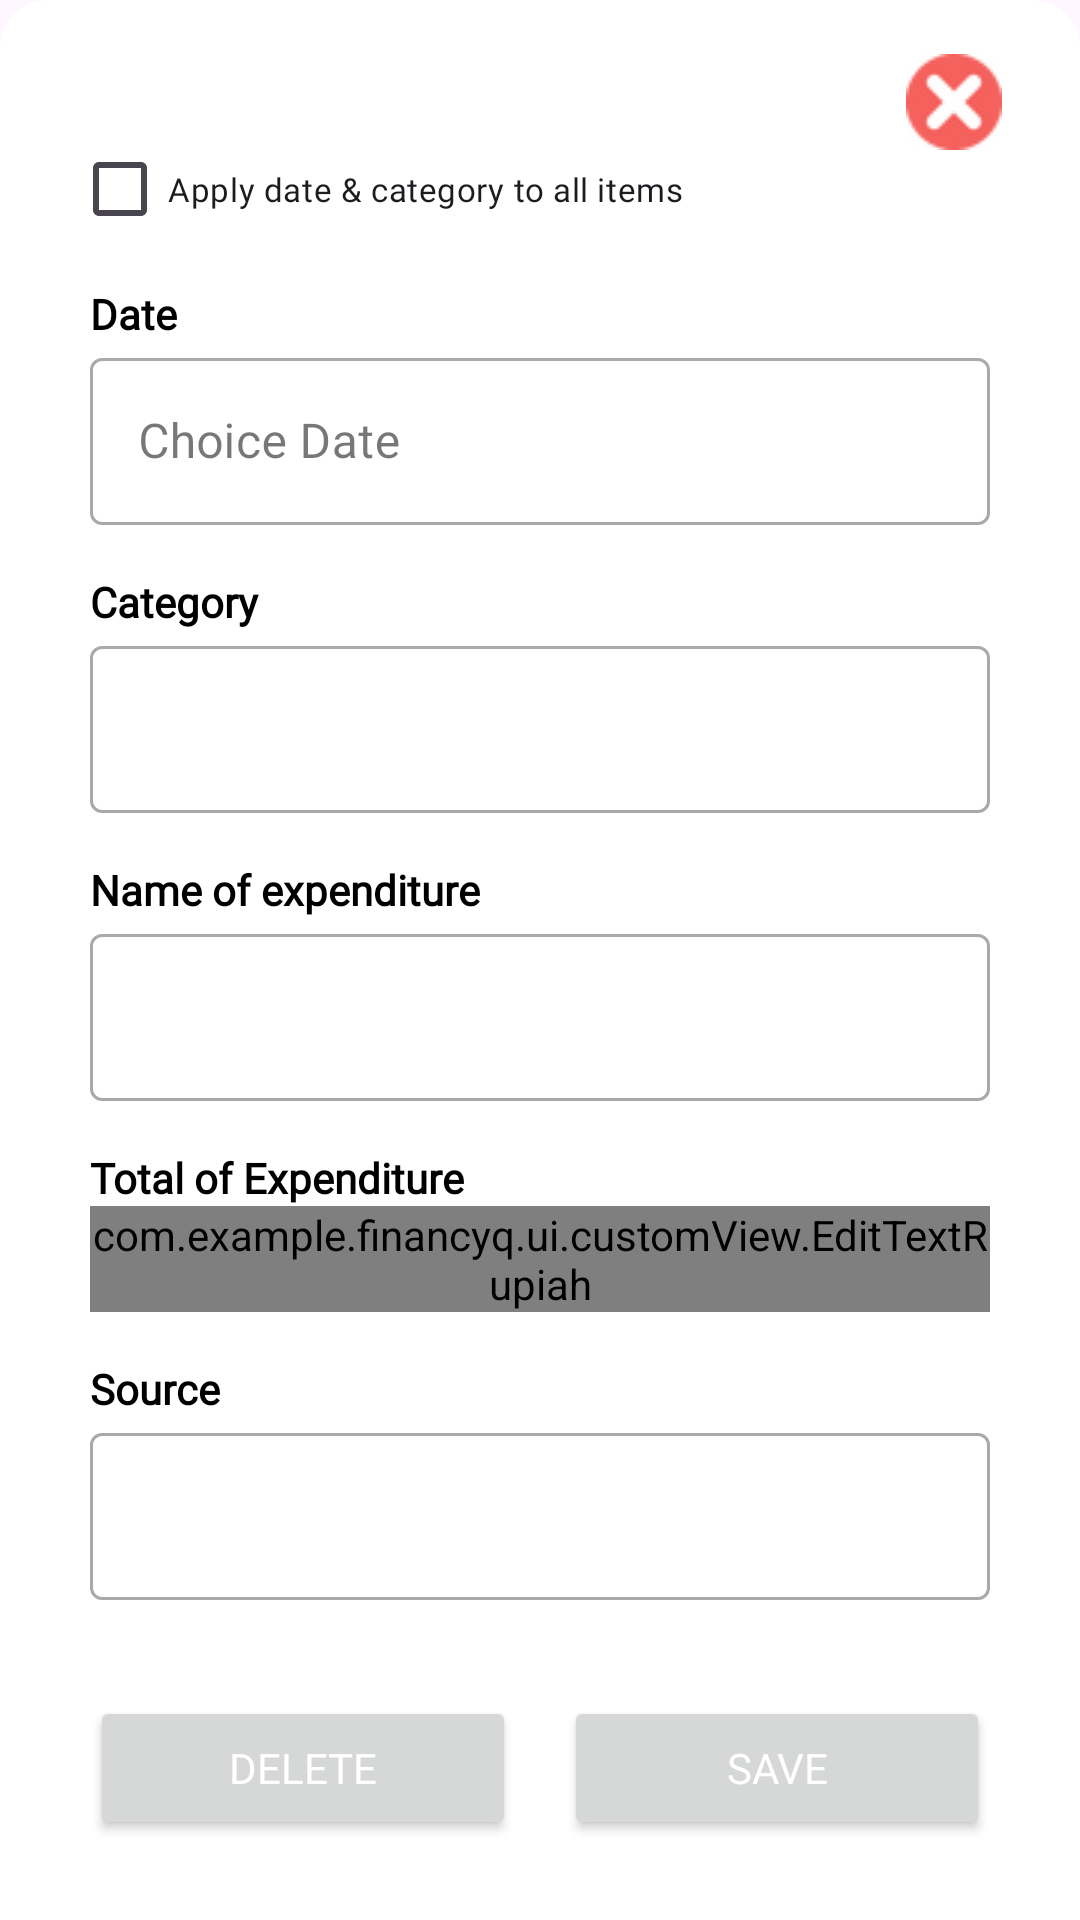

Icons on this 1080px×1920px Android screen, each with the point to tap as (x,y):
close: (954,102)
